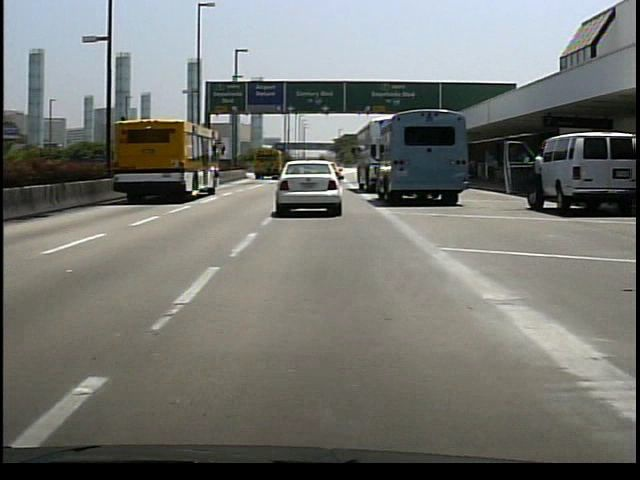person: (530, 139, 548, 217)
